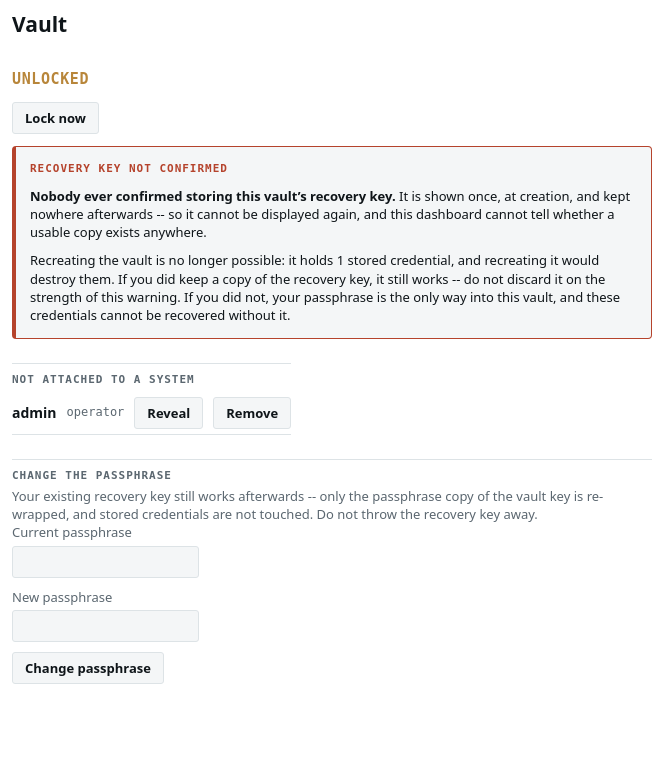
VaultPanel › removing a credential (C1) › keeps the credential listed, with the reason, when the delete fails
Click the button with test id "remove-c1": (252, 413) [213,396,291,429]
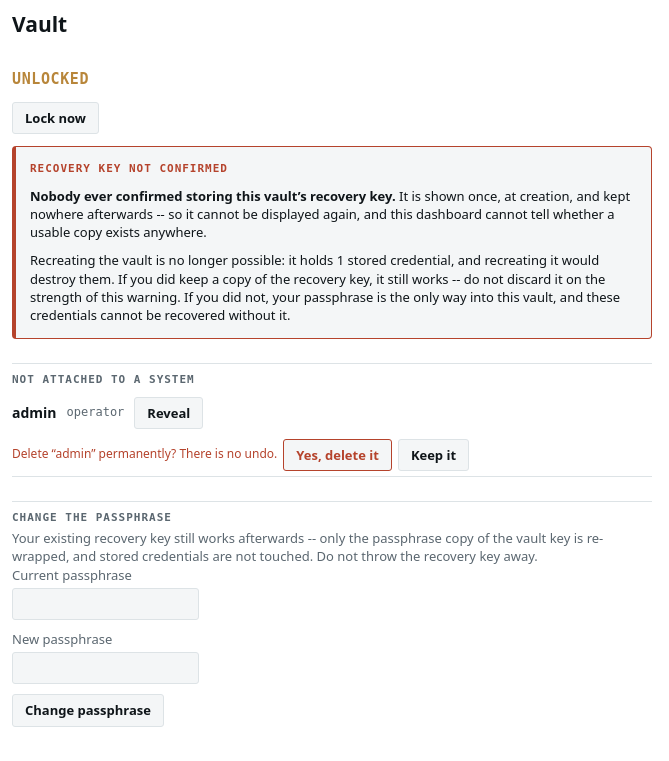
Click the button with test id "confirm-remove-c1": (338, 455) [283,439,392,471]
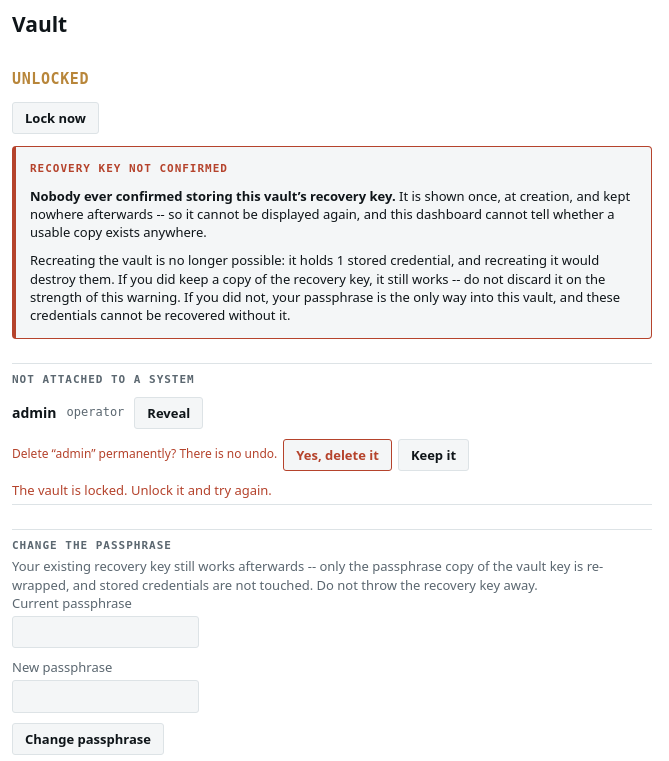
Expected: the list item with test id "credential-row-c1" is shown, [12,392,652,505]
Now the text "The vault is locked. Unlock it and try again." is shown, box [12,481,272,499]
